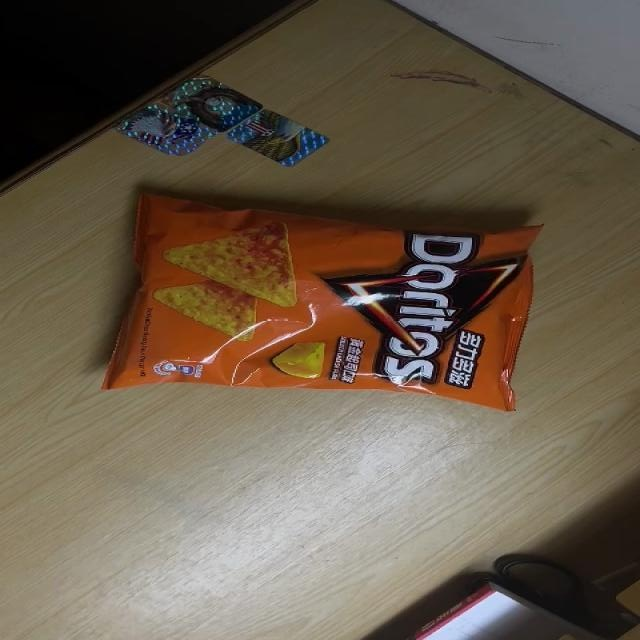Doritos: (100, 189, 545, 414)
